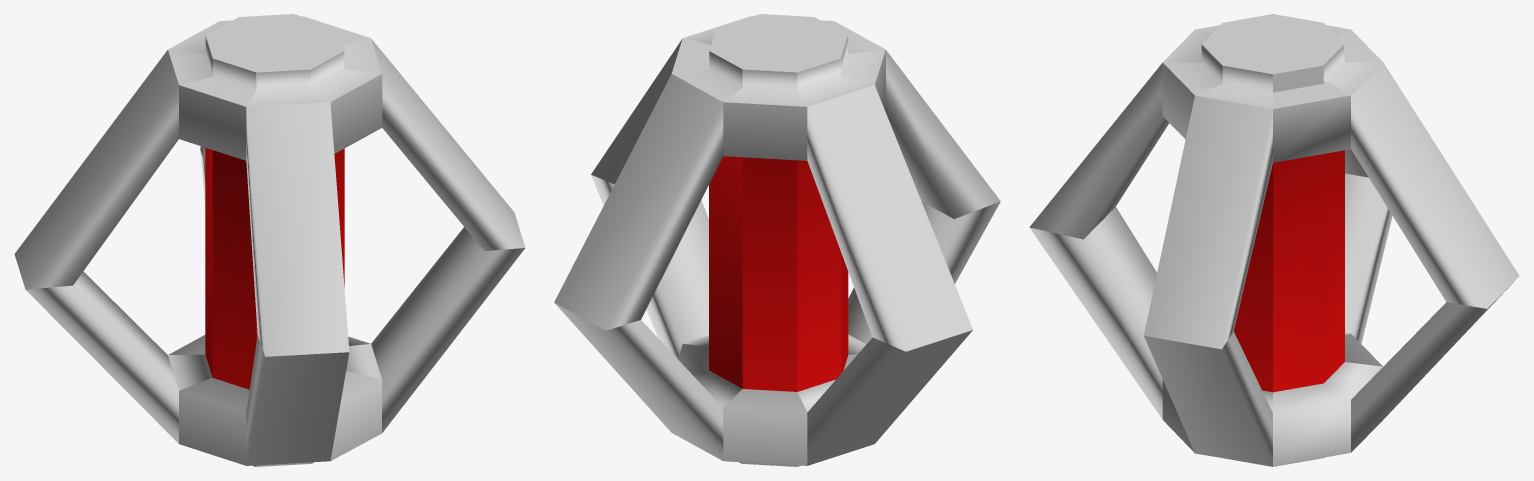
The model's file is fuelItem.fbx.
3 views of the same model, side by side, from view 1: azimuth 30°, elevation 25°; view 2: azimuth 150°, elevation 25°; view 3: azimuth 270°, elevation 25° (orthographic).
Parts seen in each view (by area): view 1: polySurface1; view 2: polySurface1; view 3: polySurface1.
Boxes of the visible parts, x1,y1,x2,y2 form: polySurface1: (14, 14, 525, 466); polySurface1: (554, 14, 1000, 466); polySurface1: (1029, 14, 1519, 466).
Bounding box in the file's own units: 13.52 × 11.67 × 13.24.
